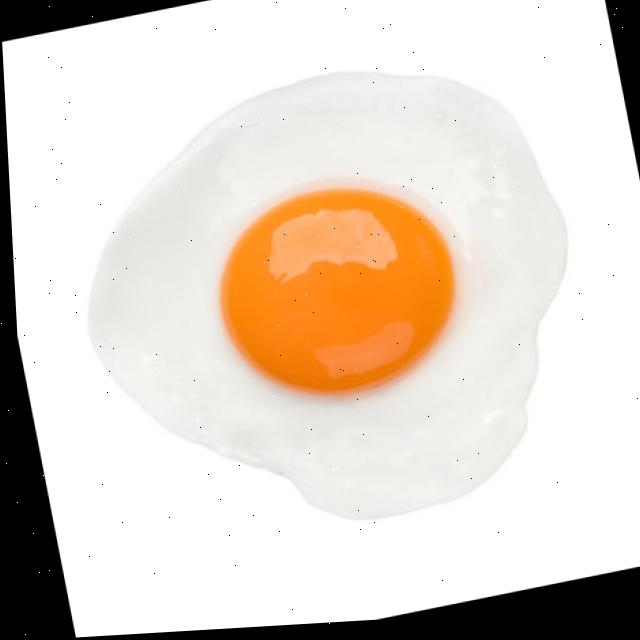Egg: (87, 77, 560, 523)
